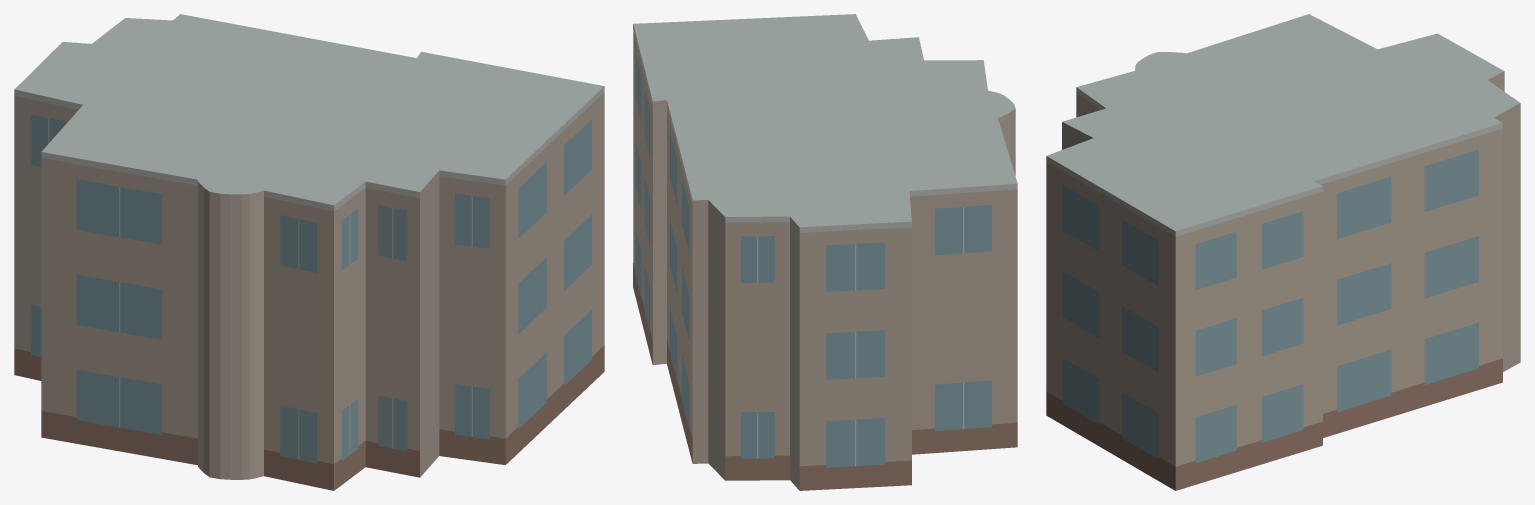
Rendered from survey-upis-32507217.glb.
3 views of the same model, side by side, from view 1: azimuth 30°, elevation 25°; view 2: azimuth 150°, elevation 25°; view 3: azimuth 270°, elevation 25° (orthographic). The views are drawn at different scales.
Visible parts, largest first — view 1: survey-upis-32507217.tmp; view 2: survey-upis-32507217.tmp; view 3: survey-upis-32507217.tmp.
Part boxes in pixels (x1,y1,x2,y2): survey-upis-32507217.tmp: (14, 14, 604, 490); survey-upis-32507217.tmp: (633, 14, 1017, 490); survey-upis-32507217.tmp: (1046, 14, 1520, 490).
Bounding box in the file's own units: 20.3 × 11.3 × 18.71.
